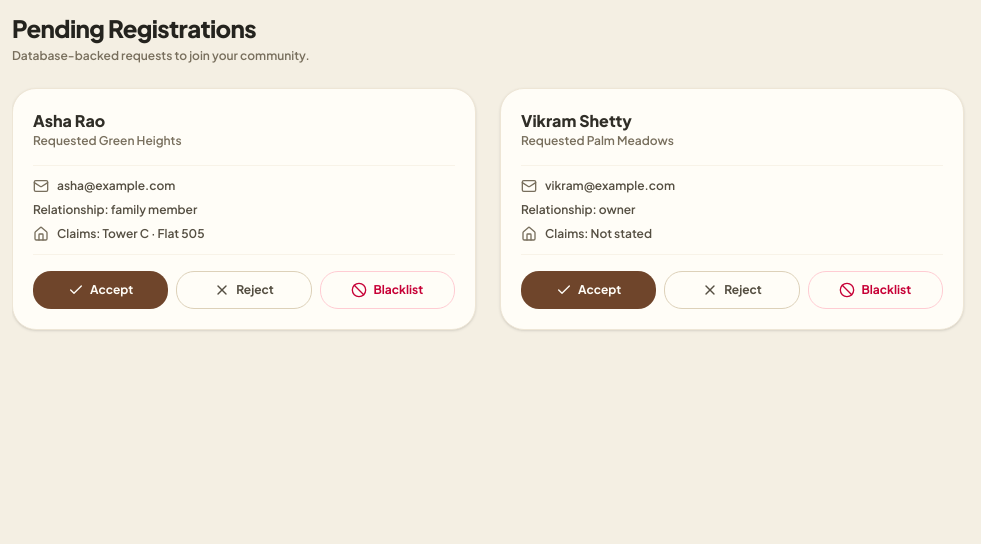
Test case: inline approval panel › announces a unit that will be created when the claim matches nothing
Expected: the heading "Asha Rao" is shown, [33, 110, 105, 131]
Click the button "Accept" below "Tower C · Flat 505" at (101, 290), box [33, 271, 168, 309]
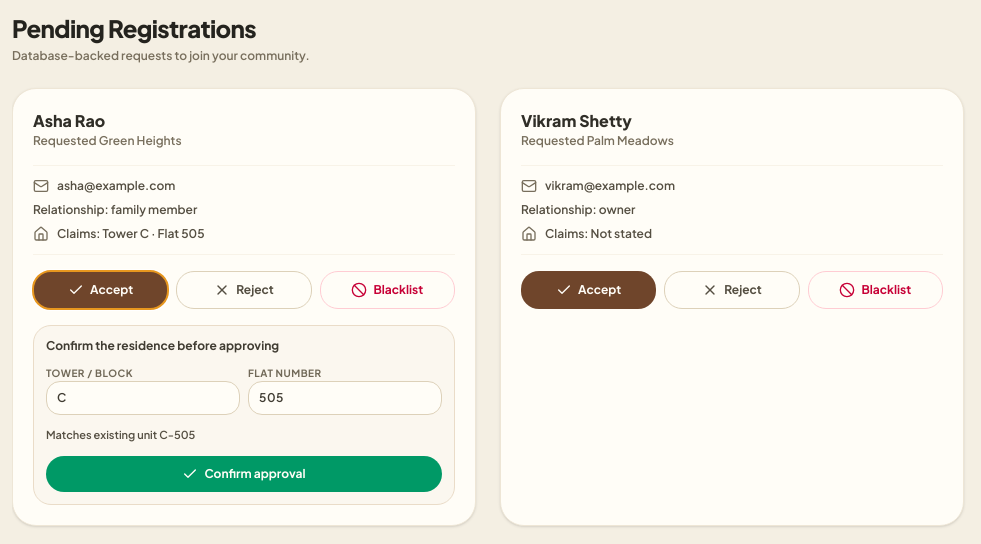
Type "506" into the field with placeholder "505" at (345, 398), box [248, 381, 442, 415]
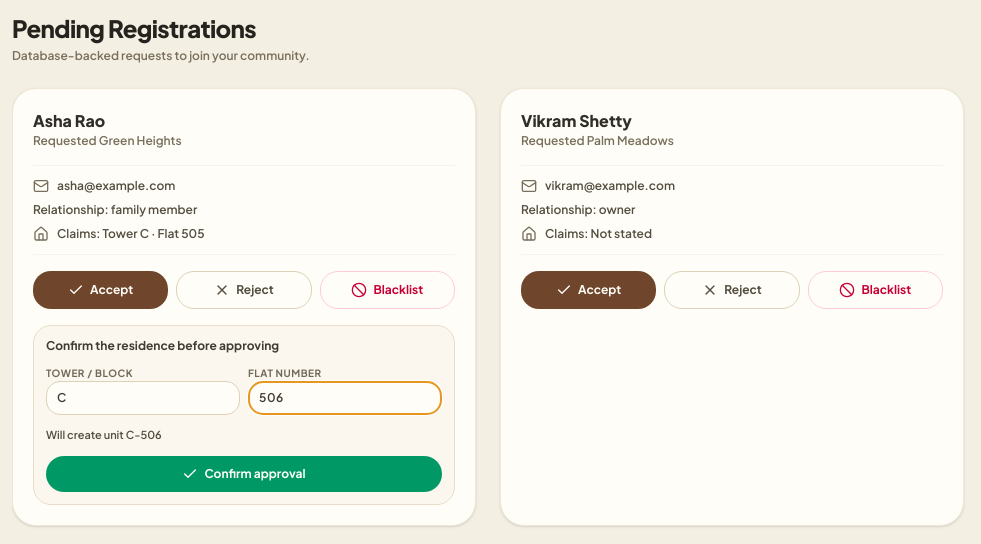
Now the text "Will create unit C-506" is shown, box [46, 428, 162, 441]
